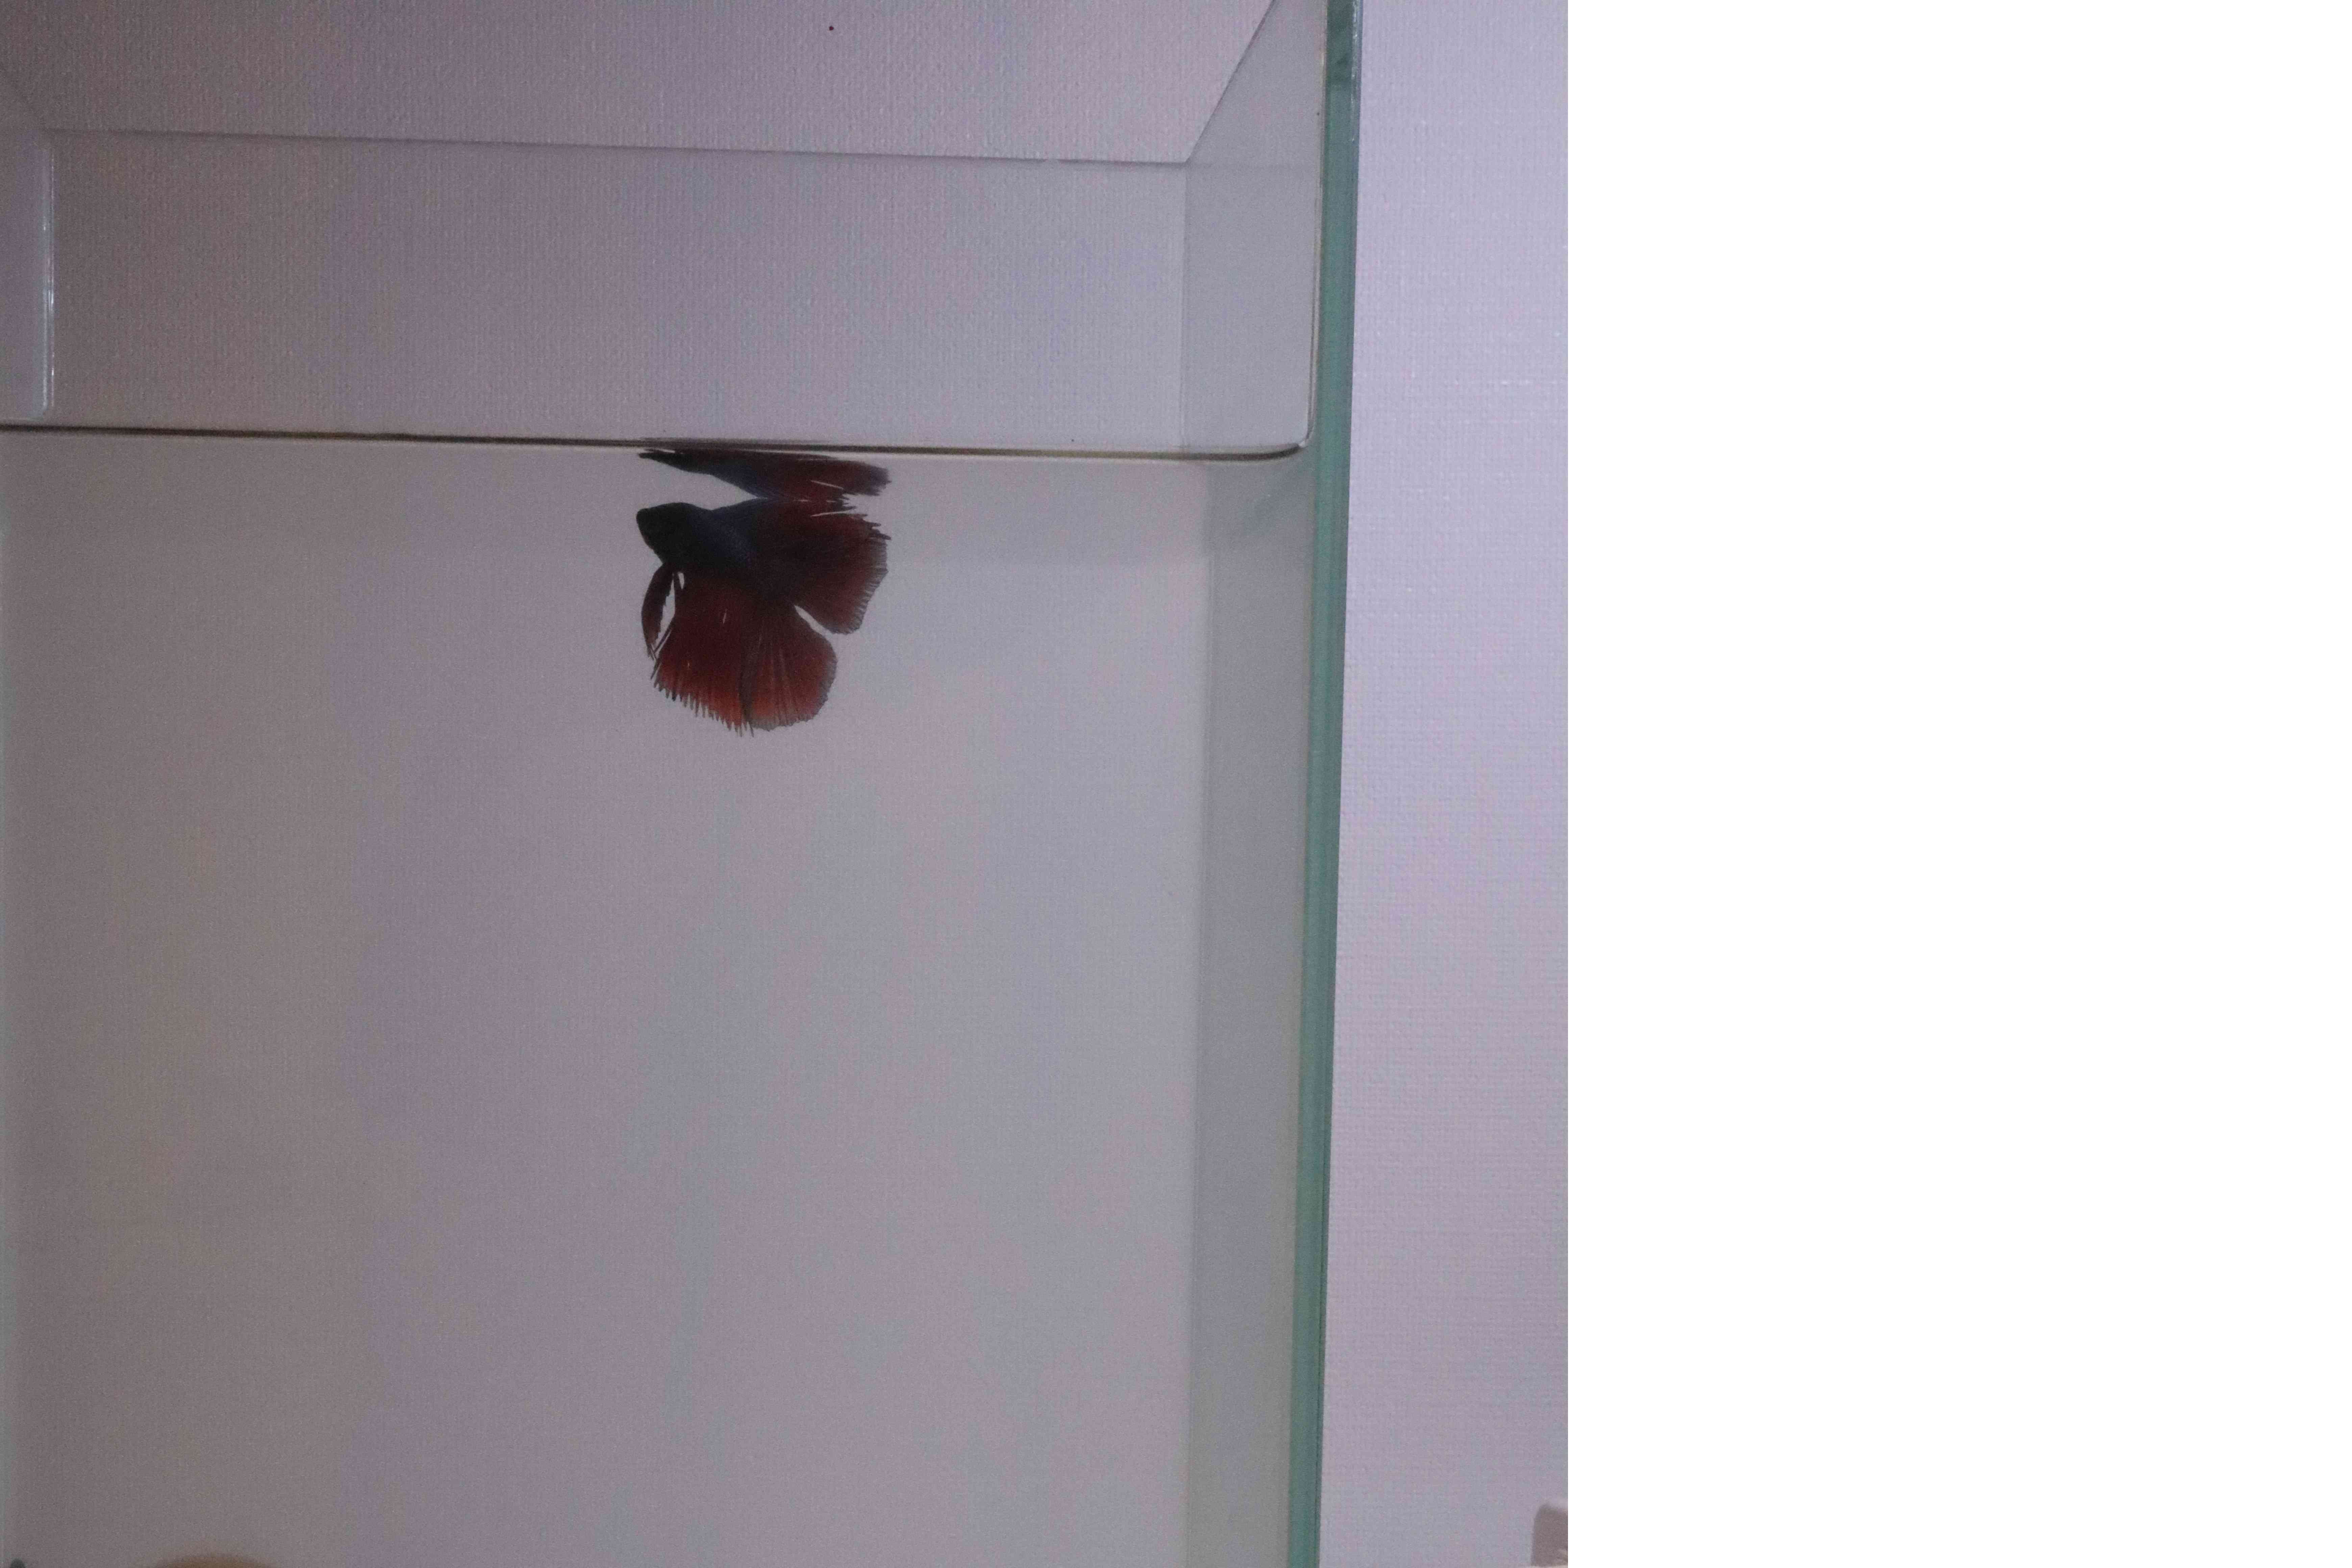fish: (630, 493, 899, 758)
